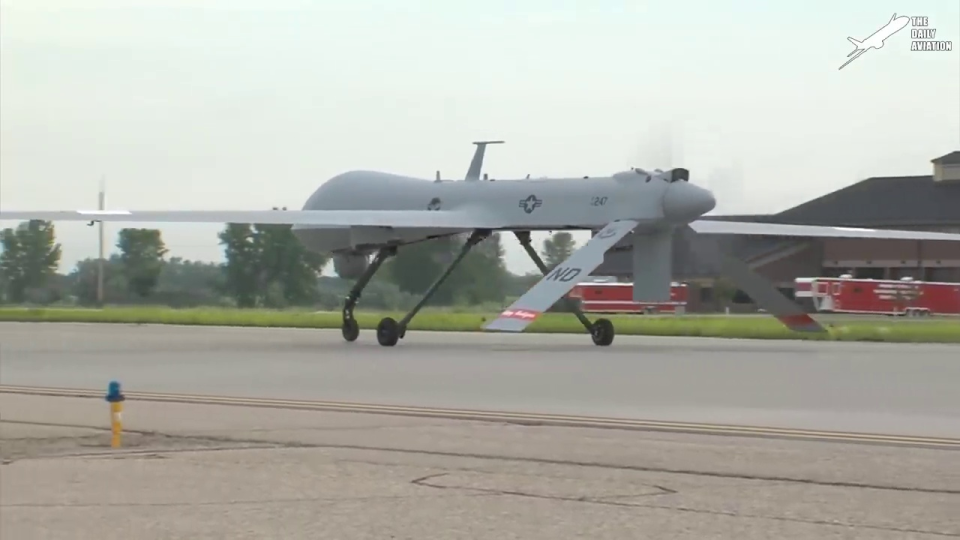military drone: (0, 140, 960, 345)
